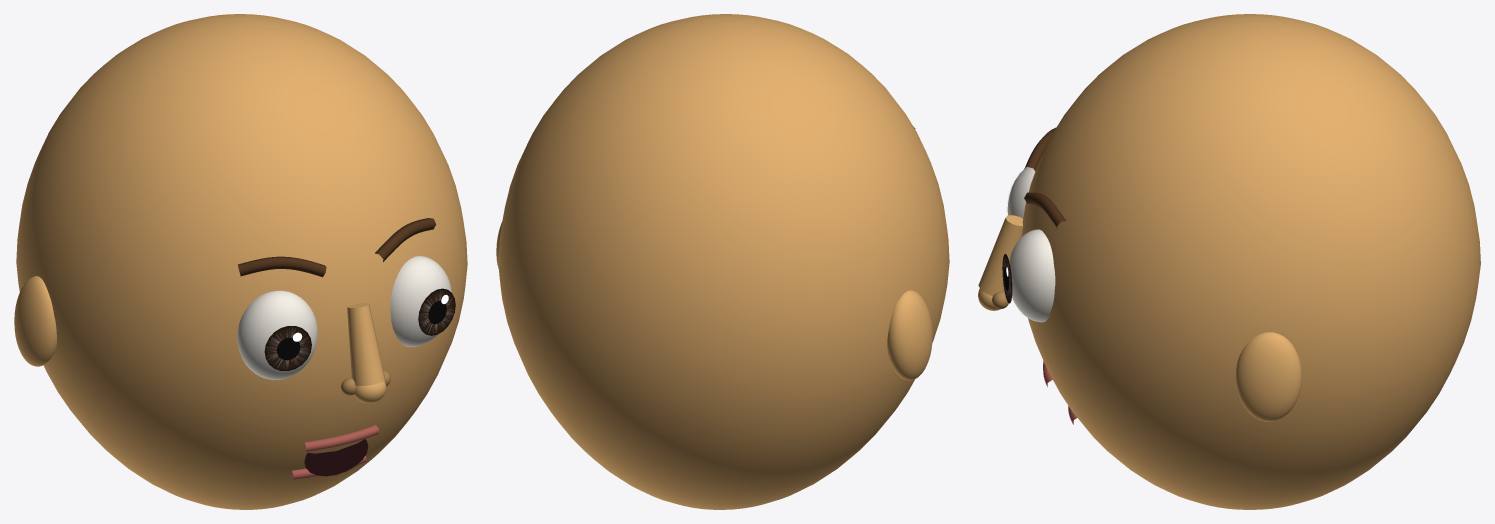
File: 04-ouverte.glb
3 views of the same model, side by side, from view 1: azimuth 30°, elevation 25°; view 2: azimuth 150°, elevation 25°; view 3: azimuth 270°, elevation 25° (orthographic).
Bounding box in the file's own units: 0.3087 × 0.321 × 0.3166.
10 materials, 1 textured.
